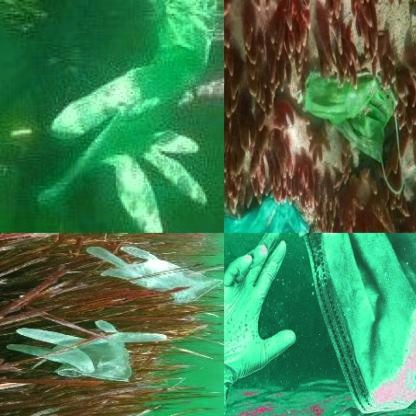Mask: (260, 233, 416, 415), (293, 52, 406, 200)
glove: (35, 2, 213, 231), (224, 233, 300, 416), (2, 316, 168, 382), (80, 244, 221, 305), (225, 188, 313, 232)
